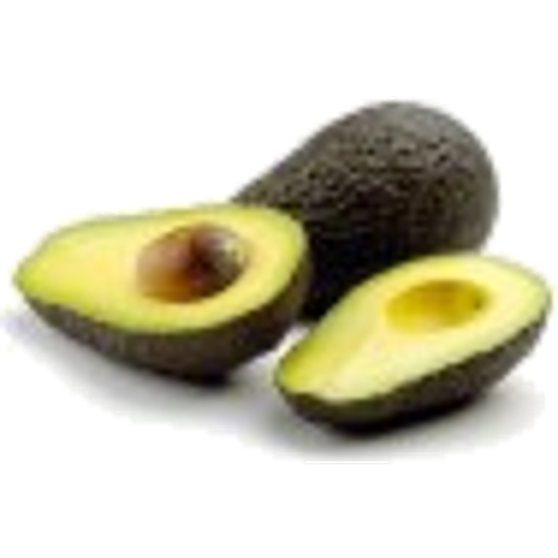avocado: (212, 93, 508, 333)
